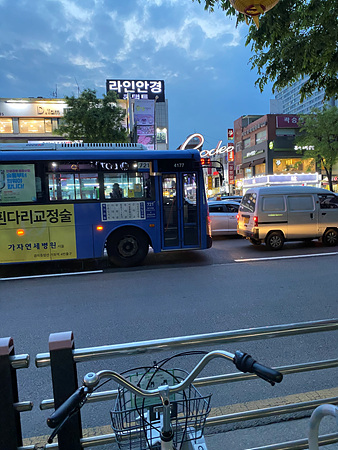entrance: (161, 163, 205, 256)
